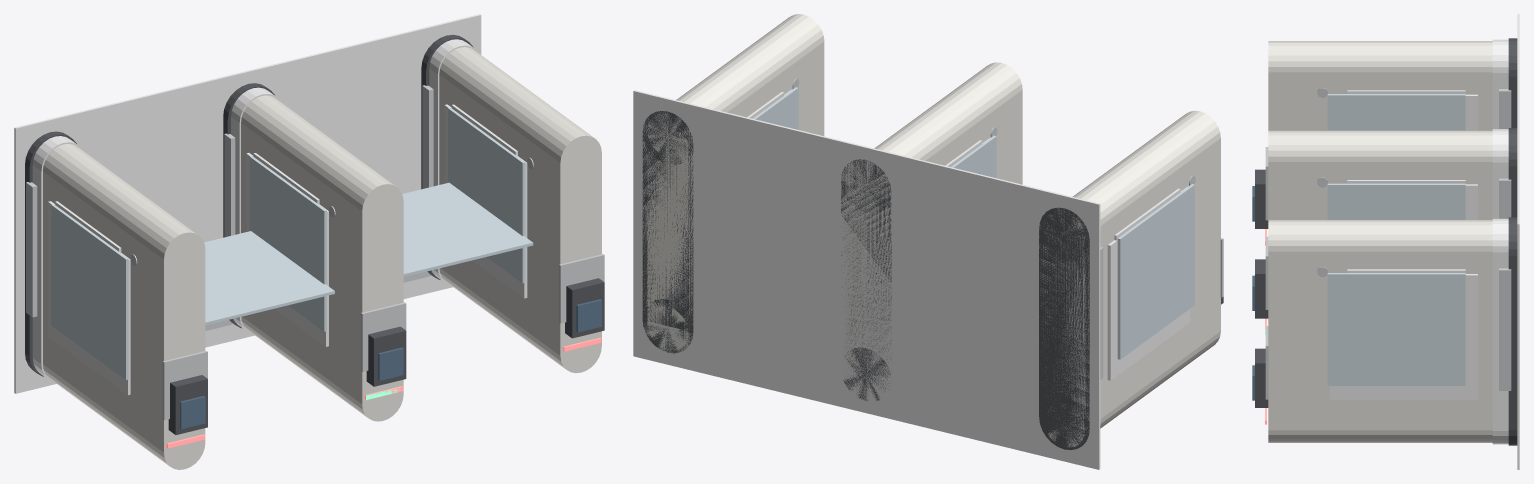
Rendered from Cửa sinh trắc học 2 cửa.glb.
3 views of the same model, side by side, from view 1: azimuth 30°, elevation 25°; view 2: azimuth 150°, elevation 25°; view 3: azimuth 270°, elevation 25° (orthographic). The views are drawn at different scales.
Visible parts, largest first — view 1: world; view 2: world; view 3: world.
Part boxes in pixels (box(x1,y1,x2,y2)): world: box(14, 14, 604, 469); world: box(633, 14, 1223, 469); world: box(1252, 14, 1519, 469).
Bounding box in the file's own units: 2.42 × 1.32 × 1.3.
Materials: 1 (1 with a texture image).
